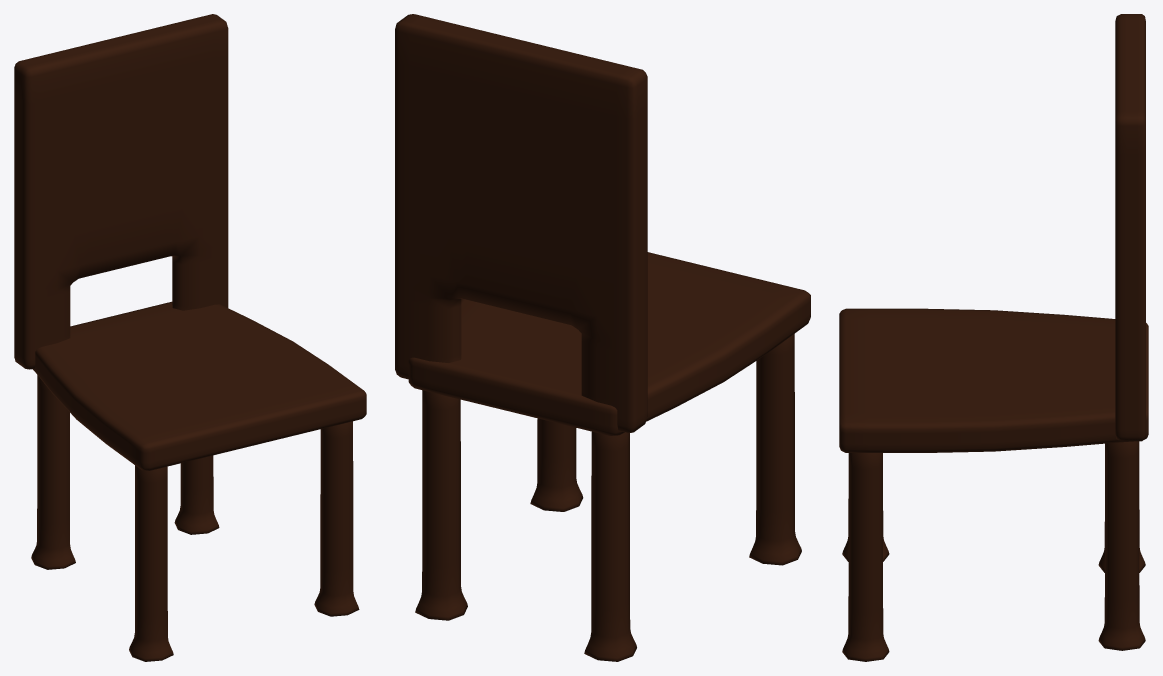
The model's file is chair.fbx.
3 views of the same model, side by side, from view 1: azimuth 30°, elevation 25°; view 2: azimuth 150°, elevation 25°; view 3: azimuth 270°, elevation 25° (orthographic). The views are drawn at different scales.
Parts seen in each view (by area): view 1: Cube; view 2: Cube; view 3: Cube.
Boxes of the visible parts, <box> form: Cube: <box>14,14,366,661</box>; Cube: <box>395,14,810,661</box>; Cube: <box>839,14,1148,661</box>.
Size of the model in its own units: 567 by 1202 by 624.
